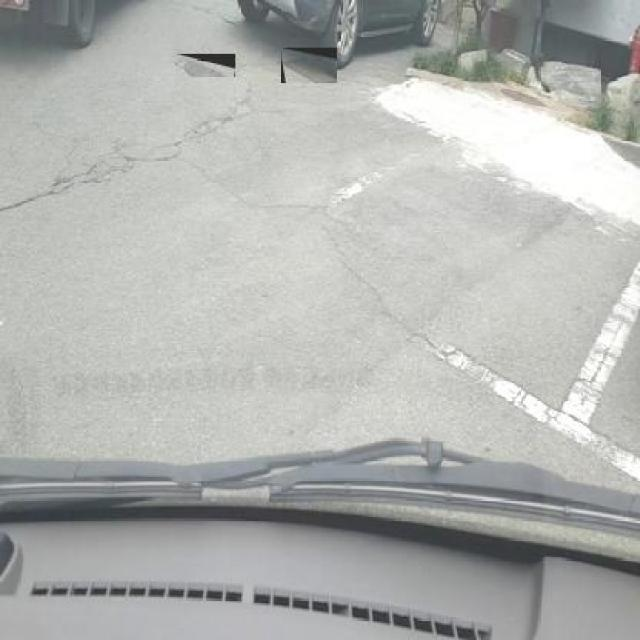Manhole: (280, 48, 337, 84), (176, 54, 236, 77)
